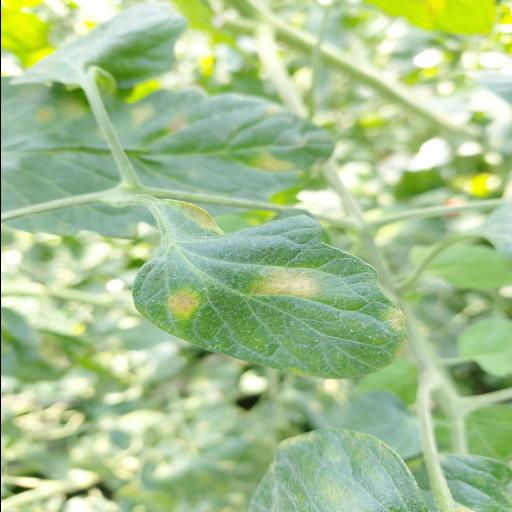disease_tomato: (130, 198, 408, 380)
